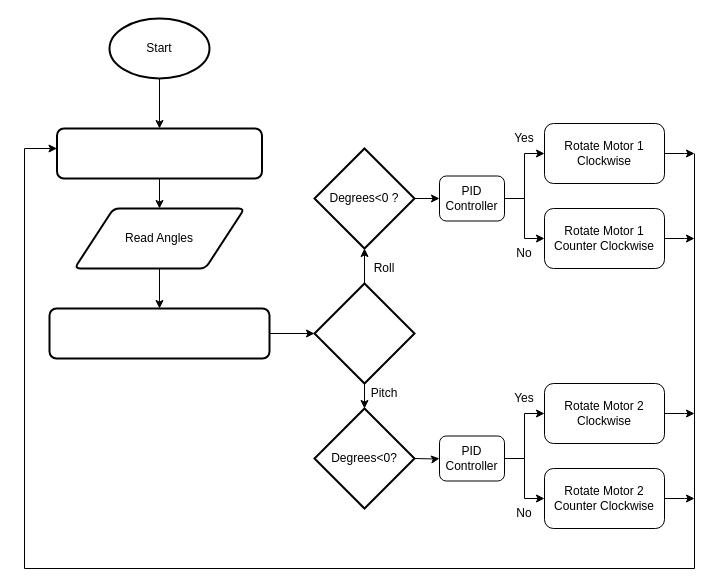
The diagram is 720 pixels wide and 587 high, and some of its shapes have lost their labels. Each missing label, with the centre of its shape:
"Complementary Filter + Kalman Filter" belongs at [159,333].
"Initial Setup" belongs at [159,153].
"Roll or Pitch" belongs at [364,333].
